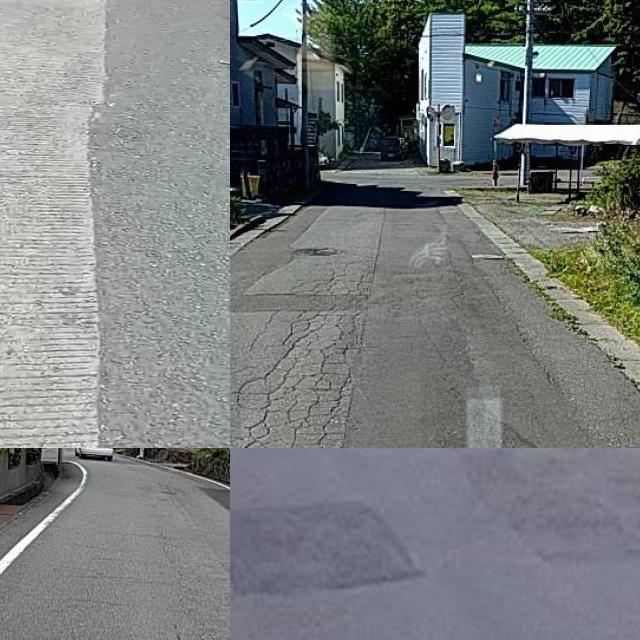Retak Buaya: (230, 313, 373, 448)
Sambungan: (0, 0, 120, 448), (230, 502, 430, 608), (230, 200, 370, 320)
